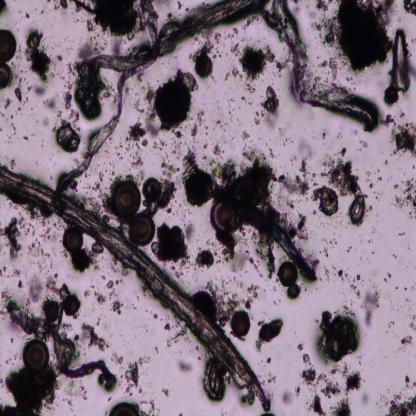Background material: (207, 146, 281, 205), (336, 0, 394, 70), (145, 70, 196, 132), (318, 304, 362, 364), (0, 368, 55, 416), (71, 1, 142, 36), (323, 144, 362, 198), (75, 61, 106, 122), (26, 214, 58, 272), (154, 219, 191, 265), (277, 155, 313, 202), (23, 25, 52, 83), (381, 112, 416, 159), (212, 230, 250, 270), (242, 40, 277, 82), (313, 0, 340, 48), (209, 283, 238, 325), (51, 117, 81, 155), (254, 314, 283, 353), (191, 38, 219, 77), (185, 172, 217, 206), (392, 175, 416, 217), (1, 219, 26, 259), (256, 235, 278, 279), (336, 362, 362, 396), (336, 266, 363, 298), (89, 182, 111, 221), (314, 188, 340, 219), (381, 392, 416, 415), (298, 348, 318, 386), (23, 272, 45, 306), (122, 357, 142, 394), (79, 325, 109, 349), (61, 61, 75, 110), (319, 368, 342, 397), (69, 249, 98, 272), (159, 178, 178, 212), (126, 120, 149, 148), (65, 376, 86, 406), (46, 274, 71, 298), (363, 289, 381, 322), (262, 78, 278, 114), (98, 274, 121, 296), (256, 390, 275, 416), (176, 353, 195, 379), (191, 110, 208, 139), (136, 396, 160, 416), (242, 283, 258, 312), (320, 235, 340, 258), (42, 298, 62, 321), (330, 395, 354, 414), (310, 388, 326, 416), (194, 249, 218, 267), (324, 57, 340, 83), (298, 139, 320, 157), (0, 286, 11, 322), (401, 368, 416, 393), (160, 159, 180, 177), (77, 40, 94, 59), (222, 67, 243, 82), (384, 85, 400, 104), (183, 220, 195, 245), (50, 0, 70, 14), (400, 0, 416, 17), (110, 296, 123, 316), (280, 390, 297, 405), (212, 114, 226, 132), (131, 153, 144, 171), (30, 85, 48, 98), (45, 96, 58, 114), (230, 39, 241, 59), (287, 285, 301, 300), (14, 86, 25, 105), (400, 334, 414, 347), (94, 290, 107, 304), (358, 137, 370, 151), (251, 112, 263, 126), (267, 370, 279, 384), (324, 265, 333, 283), (162, 382, 172, 398), (211, 142, 221, 157), (409, 312, 416, 332), (241, 130, 252, 142), (67, 109, 78, 121), (295, 340, 306, 351), (382, 272, 393, 283), (282, 135, 294, 145), (163, 322, 176, 331), (9, 122, 18, 135), (294, 384, 302, 398), (387, 317, 394, 333), (242, 96, 253, 106), (0, 0, 7, 15), (319, 129, 328, 139), (365, 168, 374, 178), (16, 280, 24, 290), (4, 97, 10, 108), (367, 202, 373, 212), (398, 230, 406, 237), (21, 136, 31, 141), (25, 13, 32, 20), (369, 182, 375, 190), (57, 55, 62, 63), (347, 244, 352, 252), (393, 254, 399, 260), (402, 286, 408, 291), (378, 176, 382, 181)
Cellulose filter fibre: (0, 158, 262, 394), (58, 1, 162, 190), (89, 1, 253, 89), (271, 1, 378, 134), (8, 301, 115, 385)
Cotton: (236, 203, 316, 280)
Diatom: (390, 29, 410, 92), (112, 179, 141, 216), (209, 199, 238, 233), (23, 338, 49, 372), (191, 292, 220, 322), (129, 215, 155, 245), (0, 28, 17, 63), (64, 228, 86, 253), (350, 193, 366, 226), (106, 401, 141, 416), (141, 177, 161, 203), (278, 260, 297, 287), (233, 309, 250, 339), (182, 150, 198, 180), (63, 296, 80, 316), (0, 63, 12, 91)
